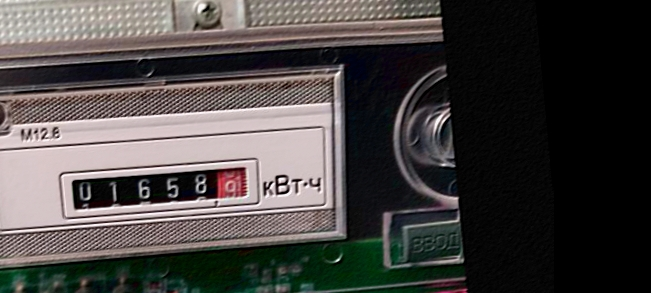0: (77, 179, 92, 202)
1: (108, 180, 119, 202)
5: (164, 175, 180, 199)
6: (135, 177, 151, 200)
8: (192, 171, 208, 195)
9: (221, 178, 237, 200)
screen: (52, 148, 269, 227)
